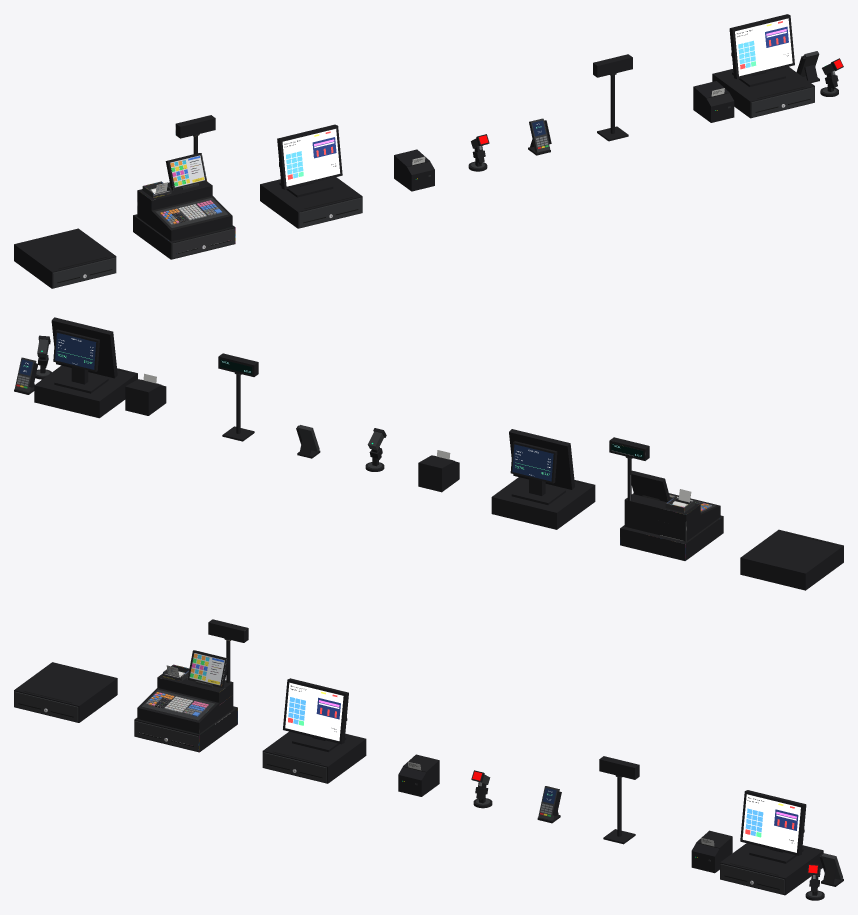
The model's file is cashReg.glb.
The picture shows the model from 3 angles, top to bottom: view 1: azimuth 30°, elevation 25°; view 2: azimuth 150°, elevation 25°; view 3: azimuth 330°, elevation 25°; orthographic projection.
Parts seen in each view (by area): view 1: Reg_Body, Drawer_Body, Drawer_Body.002, Drawer_Body.003, POS_Monitor_Panel.001, POS_Monitor_Panel, Drawer_Front.002, Drawer_Front, Drawer_Front.003, POS_Monitor_Housing.001, POS_Monitor_Housing, Pole_HeadBox (+2 smaller); view 2: Reg_Body, Drawer_Body, Drawer_Body.002, Drawer_Body.003, POS_Monitor_Housing.001, POS_Monitor_Housing, POS_CustomerDisplay_Panel.001, POS_CustomerDisplay_Panel, Printer_Lower, Printer_Lower.001, Printer_Cover.001, Printer_Cover (+2 smaller); view 3: Reg_Body, Drawer_Body, Drawer_Body.002, Drawer_Body.003, POS_Monitor_Panel.001, POS_Monitor_Panel, Drawer_Front.003, Drawer_Front, Drawer_Front.002, POS_Monitor_Housing.001, POS_Monitor_Housing, Pole_HeadBox (+2 smaller).
Part boxes in pixels (box(x1,y1,x2,y2)): Reg_Body: box(133, 115, 235, 259); Drawer_Body: box(14, 228, 116, 288); Drawer_Body.002: box(260, 177, 362, 228); Drawer_Body.003: box(712, 66, 814, 118); POS_Monitor_Panel.001: box(735, 18, 792, 76); POS_Monitor_Panel: box(282, 129, 340, 186); Drawer_Front.002: box(298, 197, 362, 227); Drawer_Front: box(52, 257, 116, 287); Drawer_Front.003: box(751, 87, 814, 117); POS_Monitor_Housing.001: box(729, 14, 794, 79); POS_Monitor_Housing: box(277, 124, 342, 189); Pole_HeadBox: box(593, 54, 632, 77); Reg_Body: box(609, 437, 723, 560); Drawer_Body: box(740, 529, 843, 590); Drawer_Body.002: box(491, 477, 595, 529); Drawer_Body.003: box(34, 365, 137, 418); POS_Monitor_Housing.001: box(51, 317, 117, 378); POS_Monitor_Housing: box(509, 429, 574, 489); POS_CustomerDisplay_Panel.001: box(55, 332, 96, 369); POS_CustomerDisplay_Panel: box(512, 444, 553, 481); Printer_Lower: box(418, 465, 459, 492); Printer_Lower.001: box(125, 389, 166, 415); Printer_Cover.001: box(125, 379, 161, 401); Printer_Cover: box(418, 455, 454, 477); Reg_Body: box(134, 619, 248, 752); Drawer_Body: box(14, 662, 117, 722); Drawer_Body.002: box(262, 731, 366, 783); Drawer_Body.003: box(720, 843, 823, 895); POS_Monitor_Panel.001: box(742, 794, 800, 852); POS_Monitor_Panel: box(285, 682, 343, 740); Drawer_Front.003: box(720, 864, 784, 894); Drawer_Front: box(14, 691, 78, 722); Drawer_Front.002: box(263, 752, 326, 782); POS_Monitor_Housing.001: box(740, 790, 806, 855); POS_Monitor_Housing: box(283, 678, 348, 744); Pole_HeadBox: box(599, 756, 639, 779).
Bounding box in the file's own units: 5 × 0.6071 × 0.4251.
27 materials, 1 textured.
